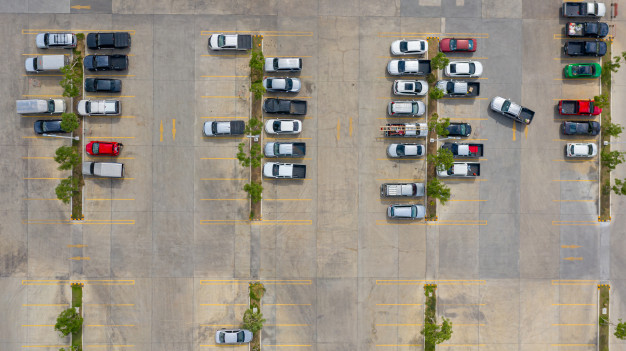car: (487, 92, 536, 134), (78, 52, 138, 76), (433, 158, 489, 181), (262, 92, 311, 118), (77, 157, 129, 181), (382, 57, 436, 80), (430, 78, 484, 101), (434, 139, 486, 162), (12, 95, 68, 116), (260, 159, 308, 183), (549, 99, 605, 119), (31, 29, 79, 52), (24, 52, 74, 74), (379, 119, 431, 140), (79, 73, 126, 96), (258, 140, 312, 160), (383, 200, 428, 224), (85, 30, 134, 52), (557, 117, 603, 140), (76, 97, 124, 119), (379, 98, 429, 119), (200, 33, 255, 52), (380, 141, 427, 163), (558, 59, 604, 81), (374, 181, 427, 200), (198, 118, 247, 138), (562, 18, 611, 38), (557, 1, 608, 20), (30, 115, 76, 136), (441, 59, 489, 79), (254, 76, 307, 94), (437, 36, 483, 56), (559, 40, 610, 58), (262, 54, 307, 74), (386, 37, 430, 57), (83, 138, 126, 158), (433, 117, 472, 139), (260, 117, 307, 135), (387, 78, 429, 98), (213, 329, 256, 346), (564, 141, 600, 161)
